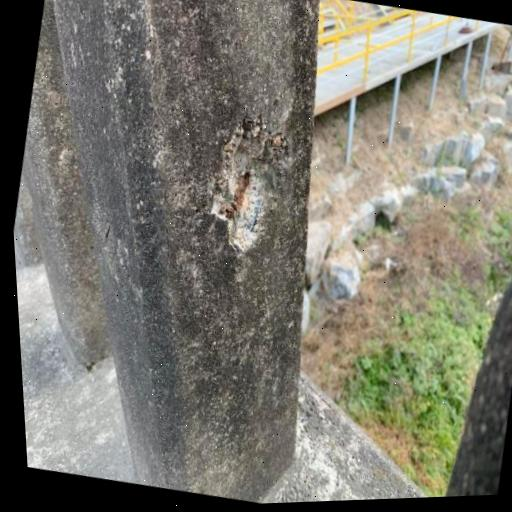exposed_rebar: (234, 173, 250, 206)
spalling: (211, 118, 287, 252)
